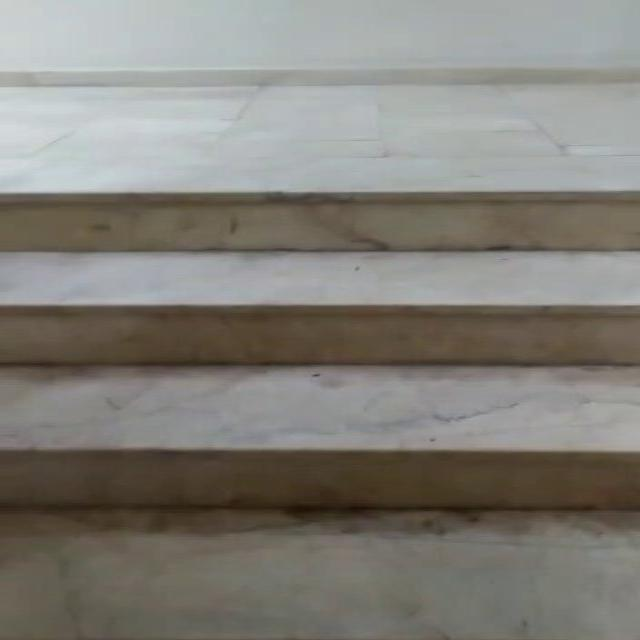stair: (6, 173, 640, 640)
